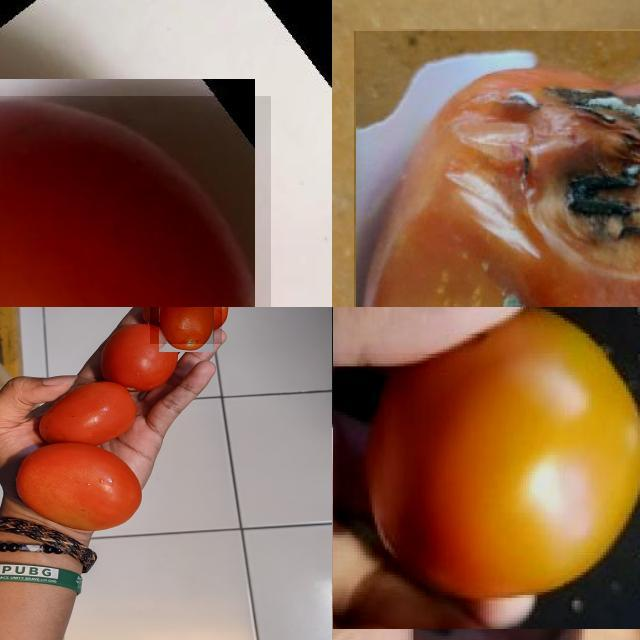Fresh Tomato: (332, 307, 640, 629), (0, 95, 271, 307), (10, 442, 143, 534), (35, 380, 138, 444), (93, 322, 181, 392), (150, 307, 222, 344)
Rotten Tomato: (353, 31, 640, 307)
